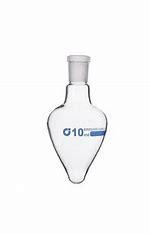Pear shaped flask: (40, 45, 111, 186)
